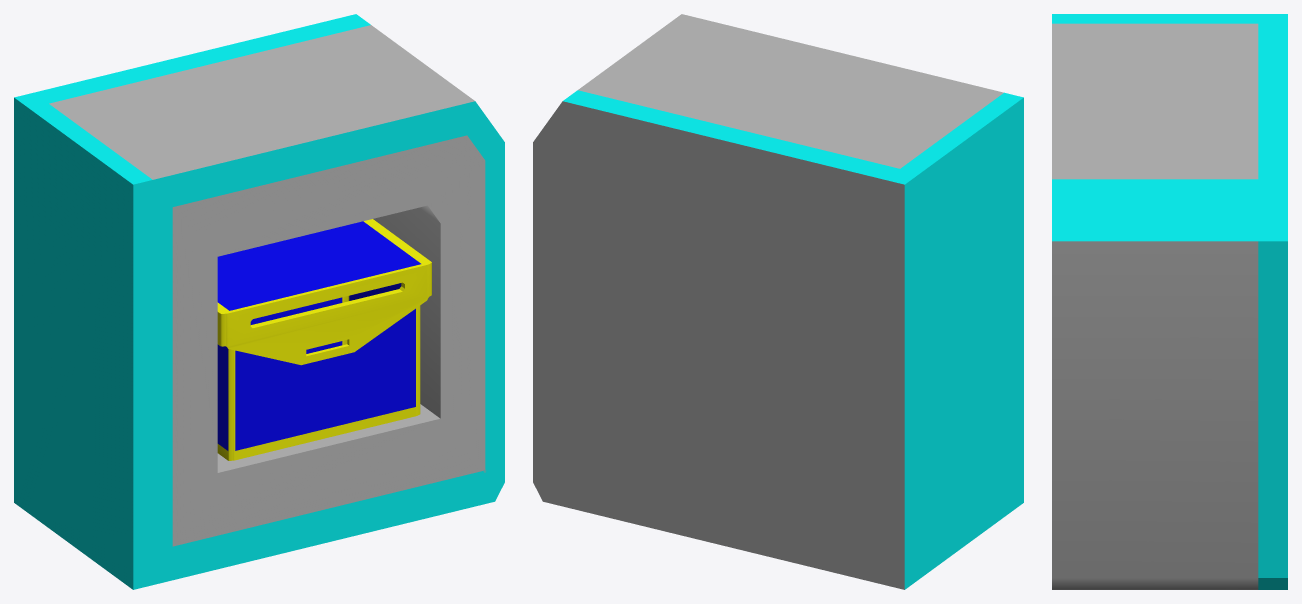
File: bookcaseOpenLow.glb
3 views of the same model, side by side, from view 1: azimuth 30°, elevation 25°; view 2: azimuth 150°, elevation 25°; view 3: azimuth 270°, elevation 25° (orthographic).
Visible parts, largest first — view 1: bookcaseOpenLow; view 2: bookcaseOpenLow; view 3: bookcaseOpenLow.
Part boxes in pixels (box(x1,y1,x2,y2)): bookcaseOpenLow: box(14, 14, 504, 589); bookcaseOpenLow: box(533, 14, 1023, 589); bookcaseOpenLow: box(1052, 14, 1287, 589).
Size of the model in its own units: 0.8897 by 0.927 by 0.4939.
